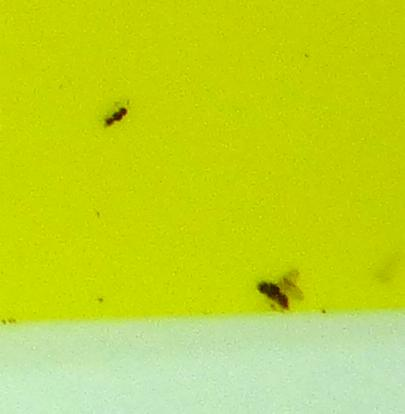Brachycera: (253, 268, 305, 314)
Hymenoptera: (100, 100, 130, 129)
